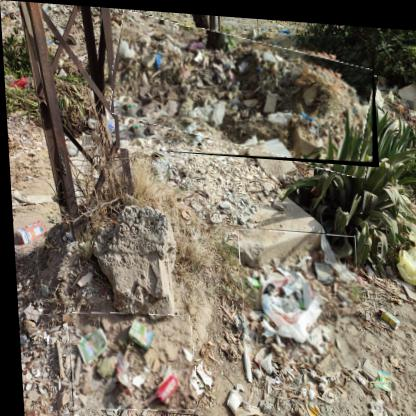Garbage: (110, 20, 379, 164), (237, 224, 360, 364), (64, 309, 195, 415)
